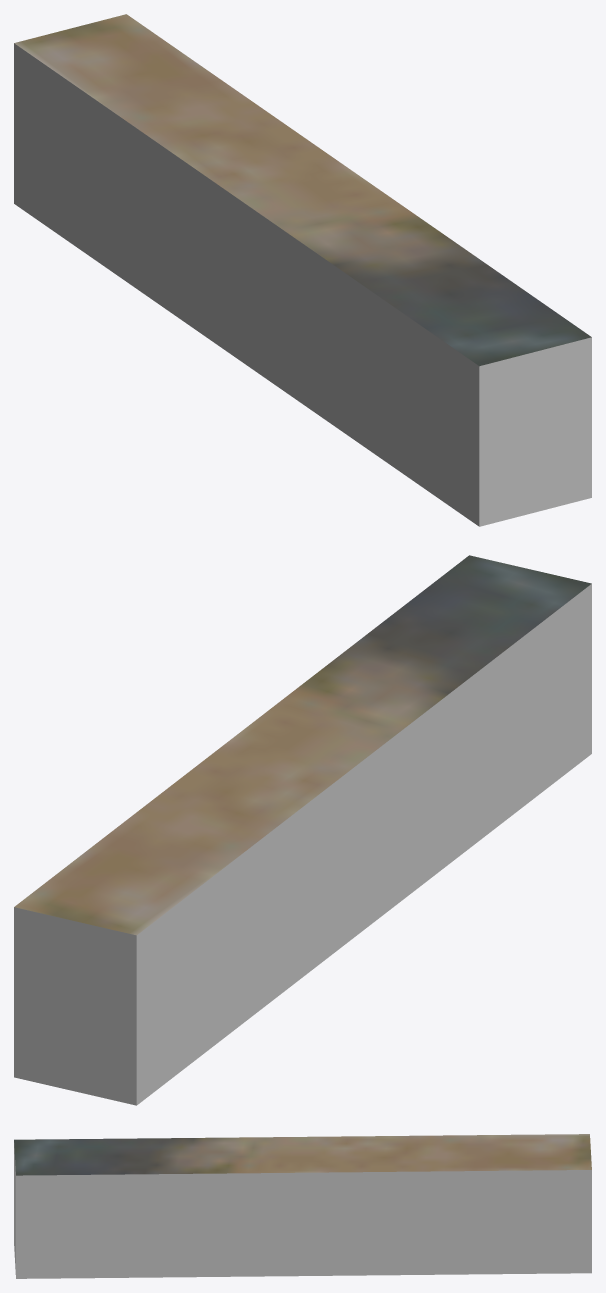
Rendered from DEBW_001000hBWQq.gltf.
The picture shows the model from 3 angles, top to bottom: view 1: azimuth 30°, elevation 25°; view 2: azimuth 150°, elevation 25°; view 3: azimuth 270°, elevation 25°; orthographic projection. The views are drawn at different scales.
Parts seen in each view (by area): view 1: Z_UP; view 2: Z_UP; view 3: Z_UP.
Part boxes in pixels (x1,y1,x2,y2): Z_UP: [14, 14, 591, 526]; Z_UP: [14, 555, 591, 1105]; Z_UP: [14, 1134, 591, 1278].
Bounding box in the file's own units: 1.91 × 2.22 × 11.24.
Materials: 2 (1 with a texture image).
